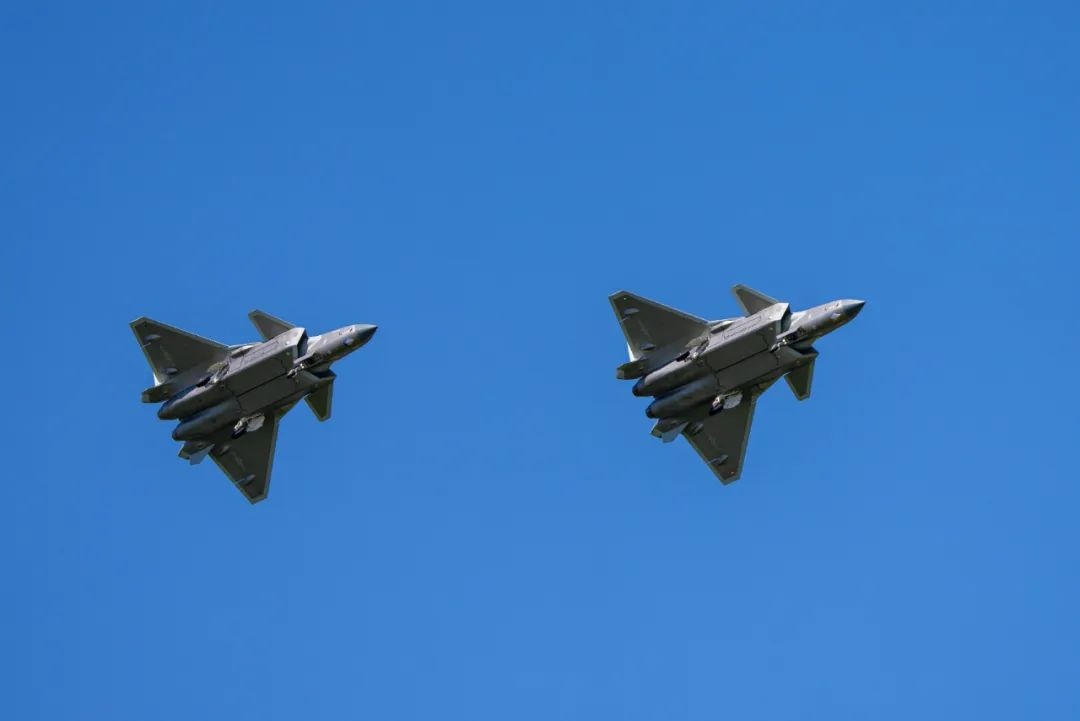J20: (607, 282, 867, 487), (128, 307, 379, 505)
